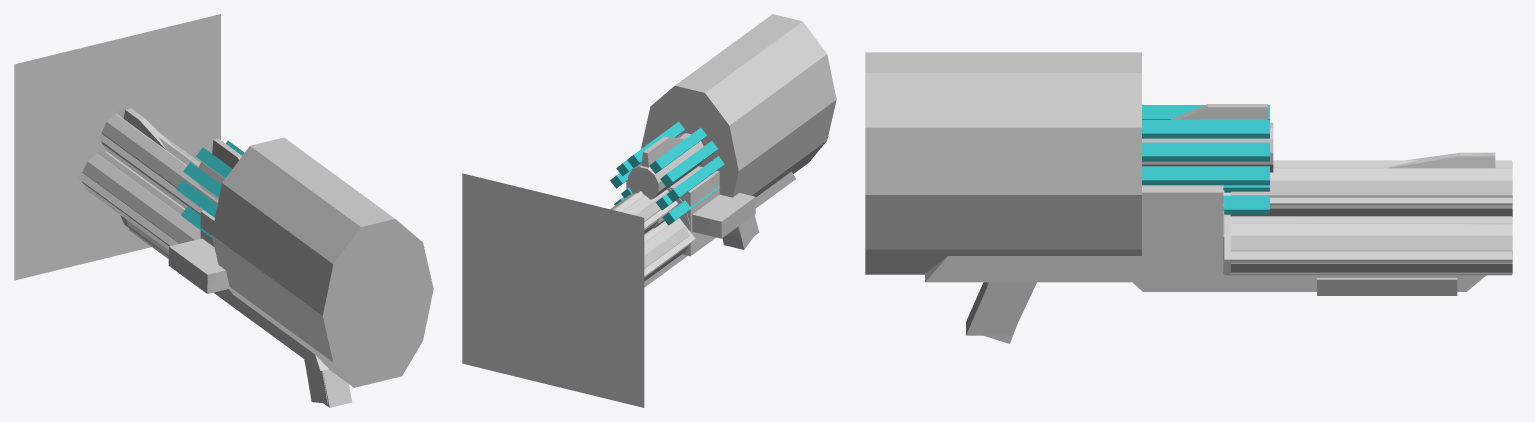
The picture shows the model from 3 angles, left to right: view 1: azimuth 30°, elevation 25°; view 2: azimuth 150°, elevation 25°; view 3: azimuth 270°, elevation 25°; orthographic projection. The views are drawn at different scales.
Visible parts, largest first — view 1: LOD100_C_LOD100, mf, Cube_002, Cube_009, LOD100_BARRELS_LOD100, Cube, Cylinder_019, Cube_004, Cube_003, Cube_001, LOD100_G_LOD100, Cylinder_015; view 2: mf, LOD100_C_LOD100, LOD100_BARRELS_LOD100, Cube_002, Cube, LOD100_F_LOD100, Cylinder_019, Cube_009, Cube_004, LOD100_G_LOD100, Cube_003; view 3: LOD100_C_LOD100, Cube, Cylinder_013, Cylinder_015, LOD100_BARRELS_LOD100, Cube_005, Cube_007, Cube_009, Cube_001, Cylinder_021, Cube_003, LOD100_F_LOD100 (+2 smaller).
Part boxes in pixels (x1,y1,x2,y2): LOD100_C_LOD100: (211,137,433,387); mf: (14,14,220,280); Cube_002: (82,108,352,407); Cube_009: (78,109,327,403); LOD100_BARRELS_LOD100: (176,140,244,237); Cube: (200,210,328,370); Cylinder_019: (169,238,230,293); Cube_004: (80,149,184,245); Cube_003: (98,114,203,212); Cube_001: (323,369,347,407); LOD100_G_LOD100: (212,138,241,168); Cylinder_015: (115,114,200,173); mf: (462,173,644,407); LOD100_C_LOD100: (641,14,836,197); LOD100_BARRELS_LOD100: (610,121,724,225); Cube_002: (622,188,759,281); Cube: (626,166,795,255); LOD100_F_LOD100: (628,133,703,228); Cylinder_019: (692,193,755,238); Cube_009: (615,191,758,276); Cube_004: (644,218,695,275); LOD100_G_LOD100: (641,136,683,167); Cube_003: (615,189,677,228); LOD100_C_LOD100: (865,52,1141,274); Cube: (925,185,1223,282); Cylinder_013: (1231,217,1512,273); Cylinder_015: (1231,162,1512,216); LOD100_BARRELS_LOD100: (1142,105,1269,214); Cube_005: (1224,216,1512,263); Cube_007: (1133,274,1485,291); Cube_009: (984,160,1512,343); Cube_001: (966,282,1036,335); Cylinder_021: (1317,278,1457,295); Cube_003: (1224,192,1512,203); LOD100_F_LOD100: (1142,122,1273,215).
Size of what is drawn, in the model's own units: 0.5696 by 1.26 by 0.5955.
